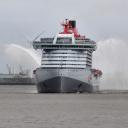cruises: (31, 19, 107, 95)
